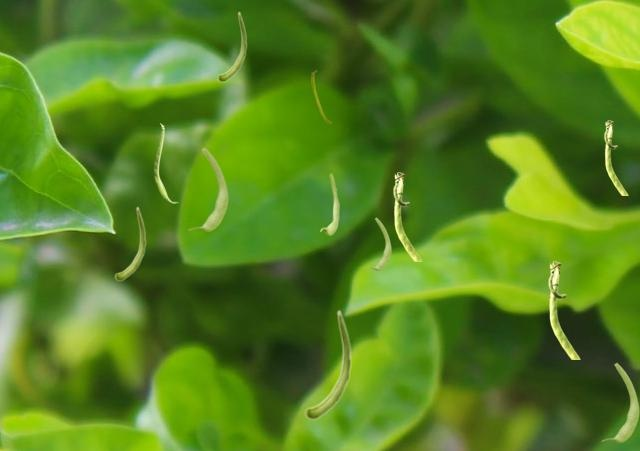french_bean: (304, 309, 351, 419), (188, 147, 227, 230), (548, 261, 579, 358), (601, 362, 638, 441), (393, 172, 421, 260), (114, 206, 145, 280), (217, 11, 246, 81), (154, 123, 177, 202), (604, 120, 627, 194), (366, 217, 390, 269), (320, 173, 338, 234), (311, 70, 330, 122)
